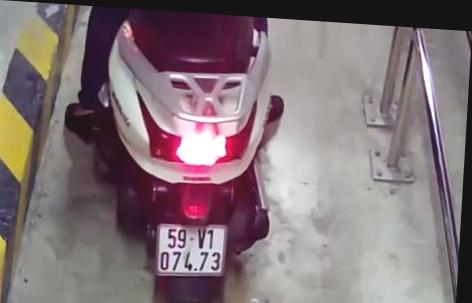License_Plate: (147, 217, 235, 284)
